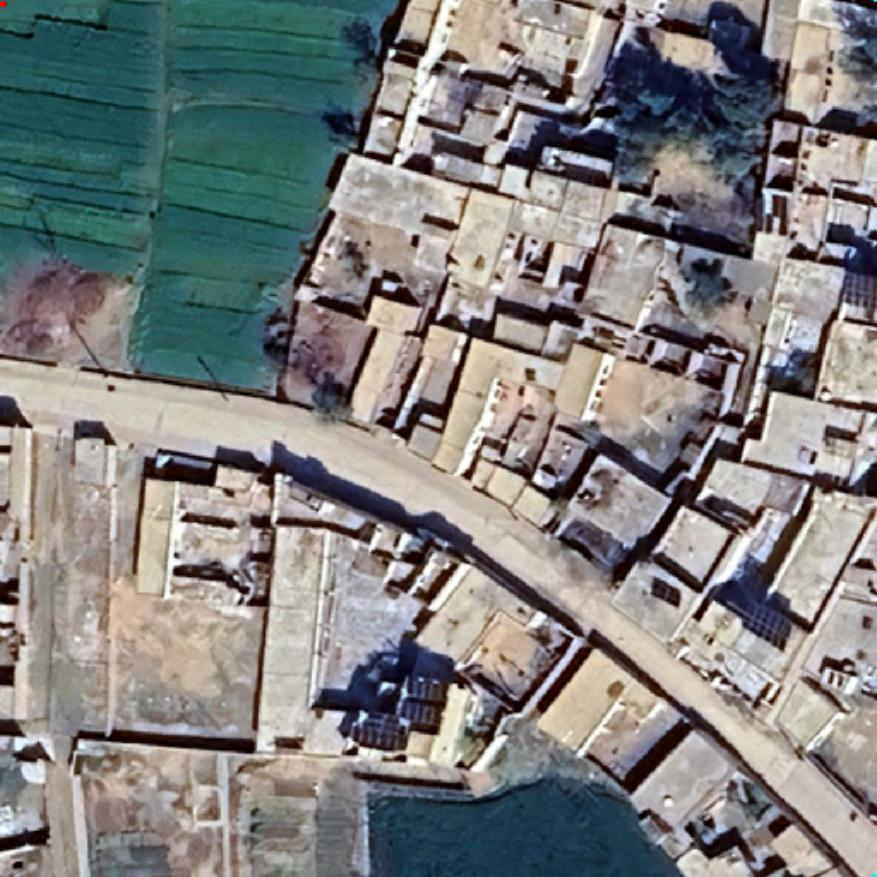Solarpanel: (733, 593, 798, 656), (396, 672, 450, 732), (354, 708, 410, 754), (839, 270, 877, 312), (646, 573, 684, 610)
